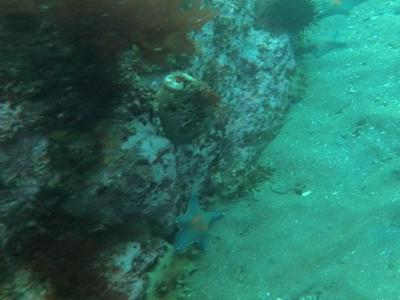holothurian: (216, 163, 271, 205)
urchin: (253, 4, 321, 38)
